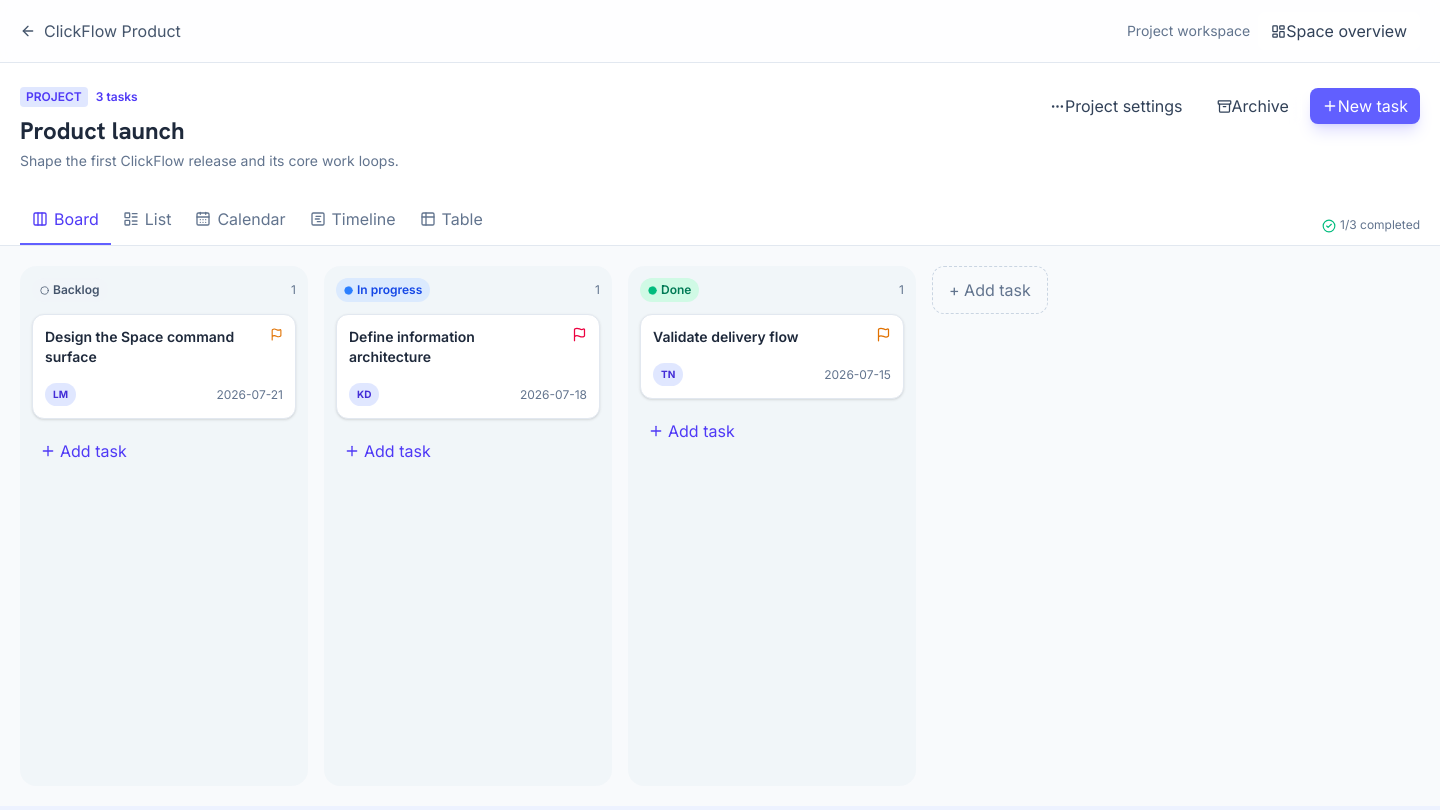
Test case: WorkspaceRoot › records checklist work and a comment in the task inspector
This screenshot has width=1440, height=810.
Click the button "Define information architecture" at (412,336), box [336,314,600,419]
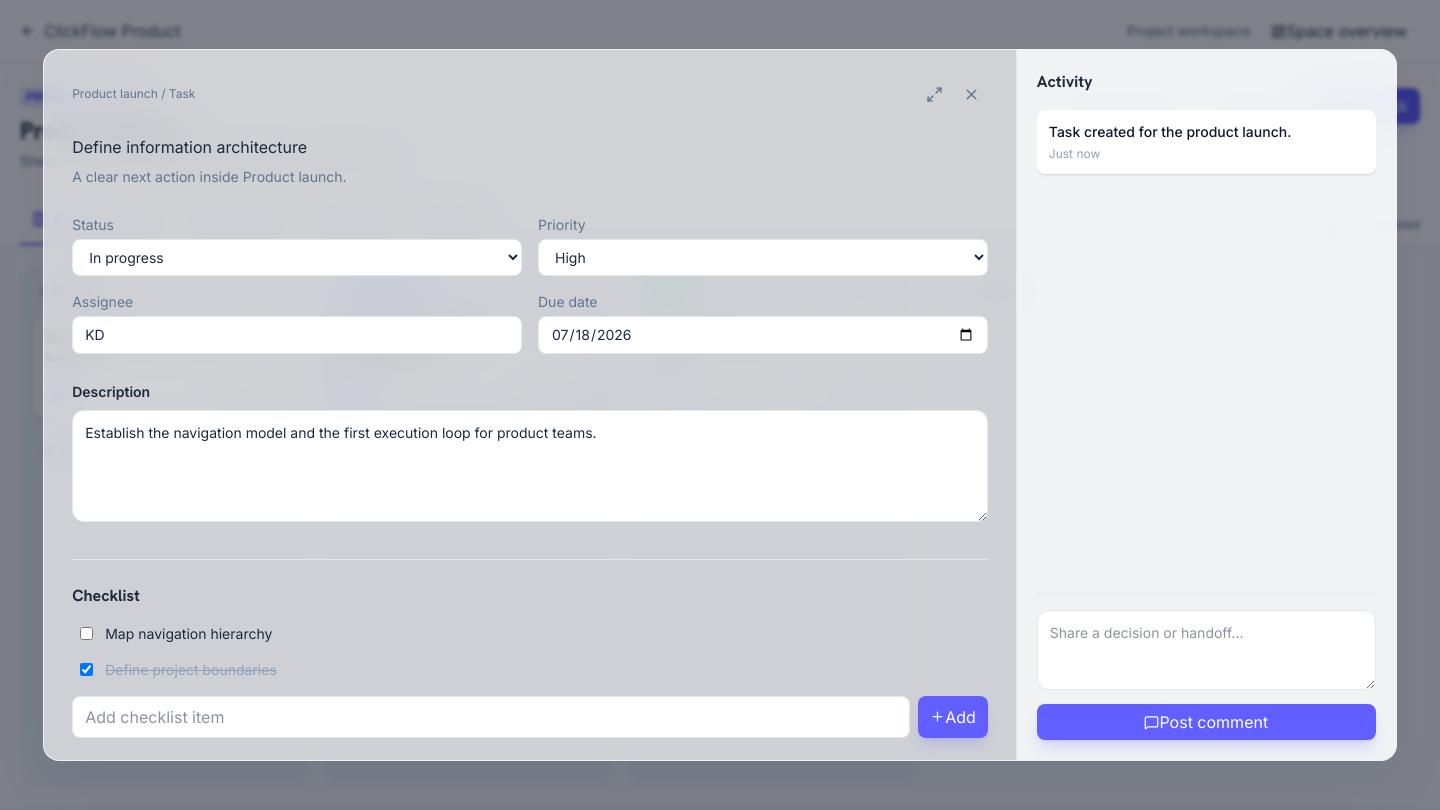
Click the checkbox labelled "Map navigation hierarchy" at (87,634), box [80,627,93,640]
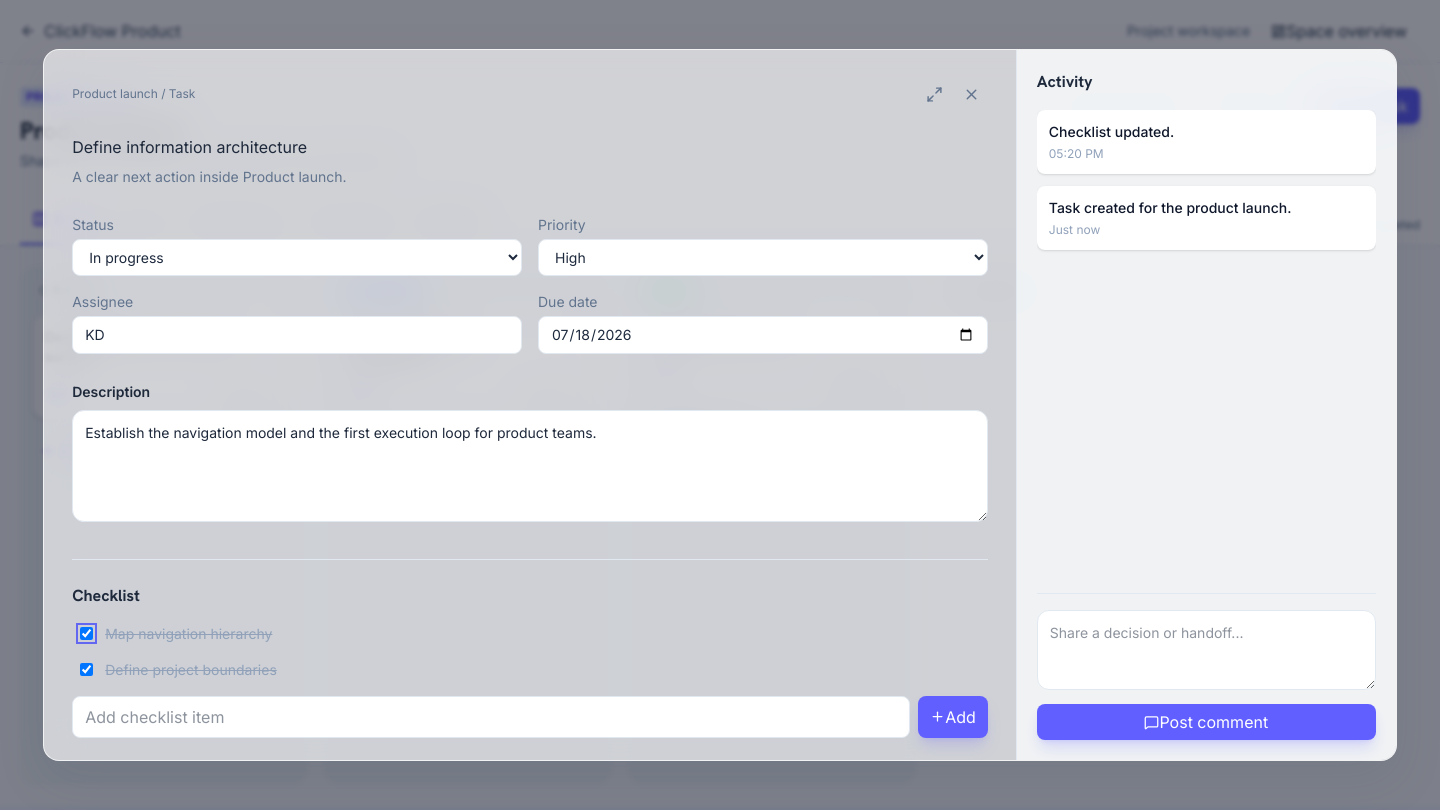
Type "Navigation structure approved." into the text box named "Comment" at (1206,650), box [1037,610,1376,690]
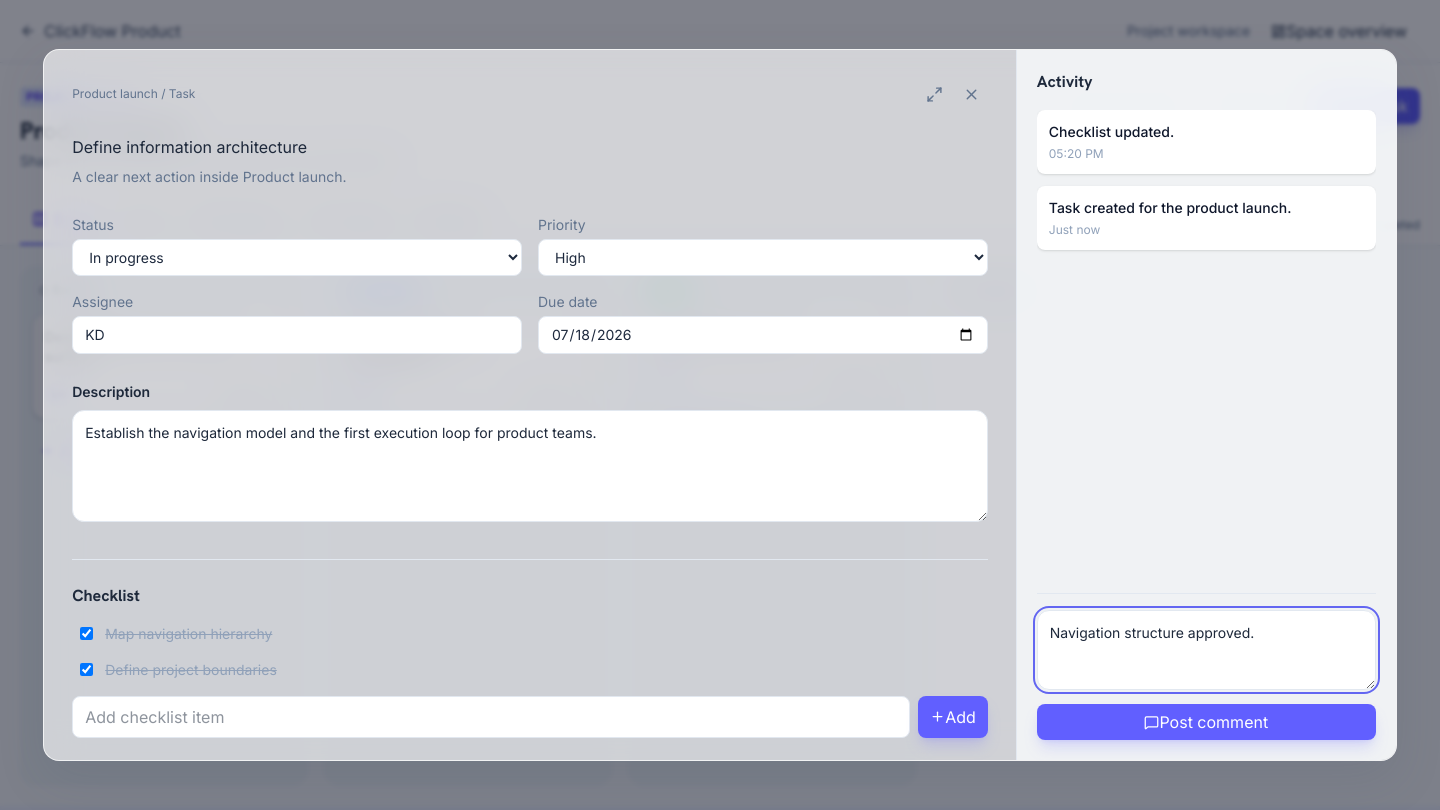
Click the button "Post comment" at (1206,722), box [1037,704,1376,740]
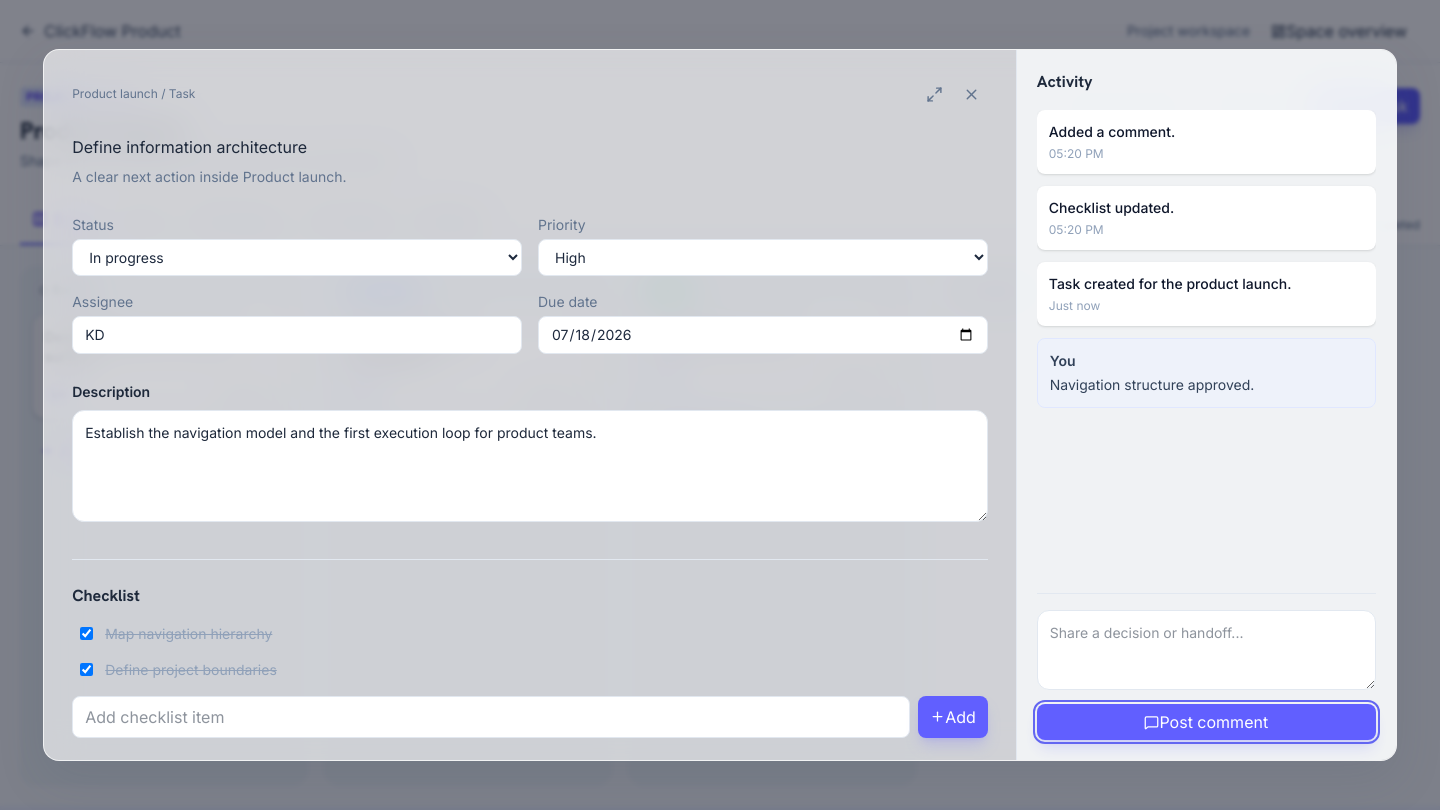
expect the checkbox labelled "Map navigation hierarchy" is checked: met, box [80,627,93,640]
expect the text "Navigation structure approved." is shown: met, box [1050,376,1254,393]
